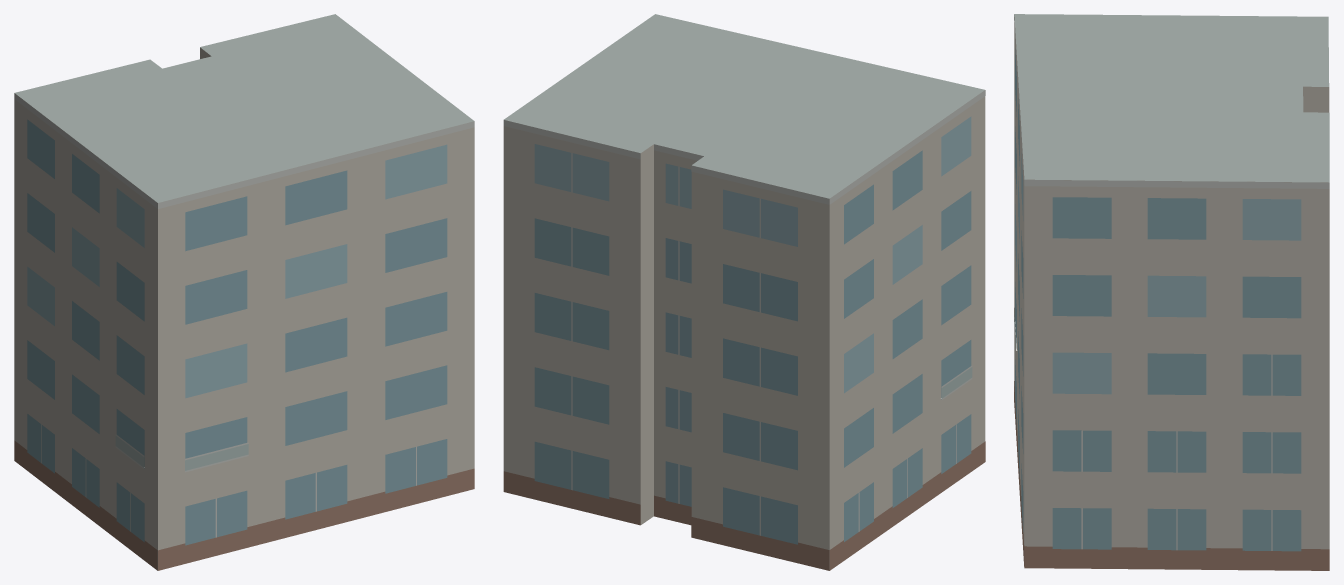
The model's file is survey-upis-32967864.glb.
3 views of the same model, side by side, from view 1: azimuth 30°, elevation 25°; view 2: azimuth 150°, elevation 25°; view 3: azimuth 270°, elevation 25° (orthographic). The views are drawn at different scales.
Visible parts, largest first — view 1: survey-upis-32967864.tmp; view 2: survey-upis-32967864.tmp; view 3: survey-upis-32967864.tmp.
Boxes of the visible parts, x1=… form: survey-upis-32967864.tmp: x1=14, y1=14, x2=474, y2=570; survey-upis-32967864.tmp: x1=503, y1=14, x2=985, y2=570; survey-upis-32967864.tmp: x1=1014, y1=14, x2=1329, y2=570.
Size of the model in its own units: 13.65 by 14.65 by 10.8.
